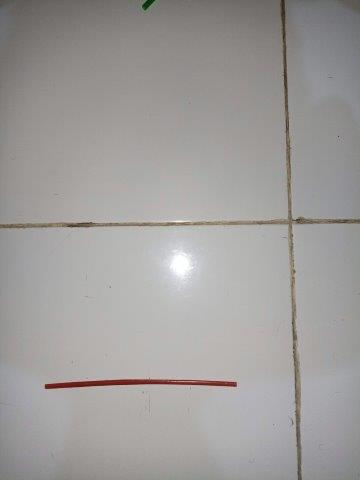sedotan: (45, 379, 237, 389)
